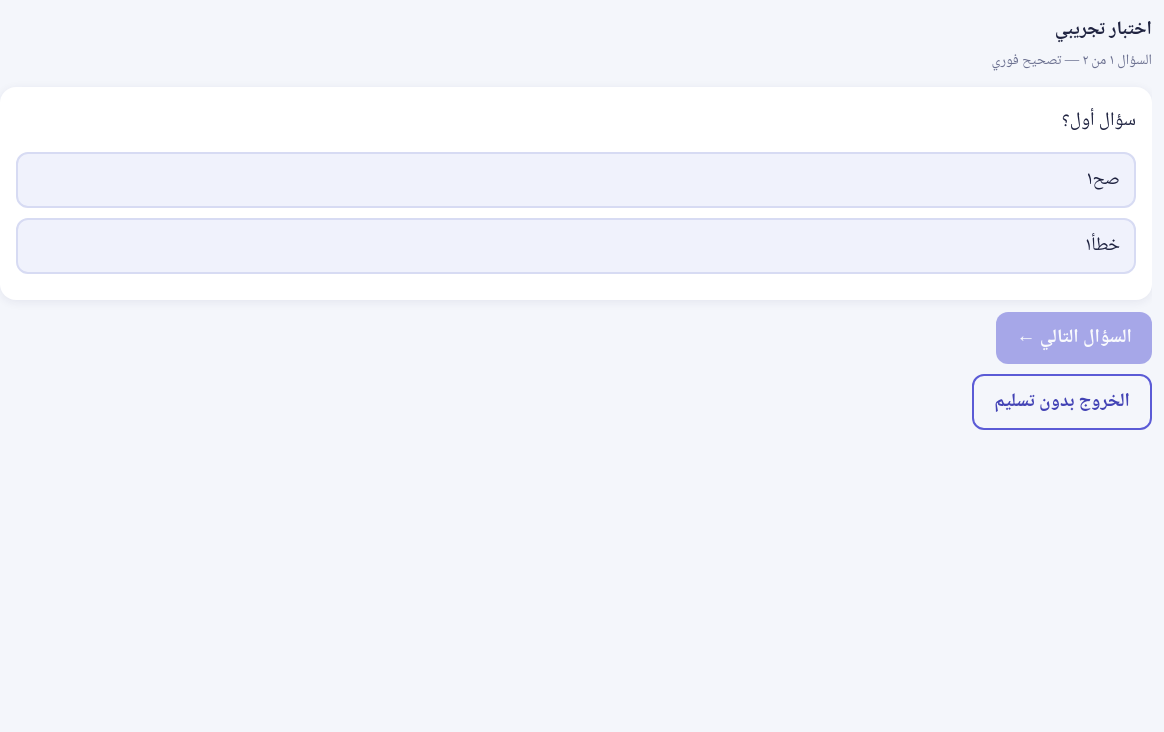
Test: مراجعة الوحدة: تصحيح فوري › يظهر التصحيح والتعليق والشرح عند الإجابة، ولا انتقال قبل الإجابة
Check: the button "السؤال التالي ←" is disabled, box [996,312,1152,364]
Click the button "خطأ١".
click(1088, 246)  # box [16,218,1136,274]
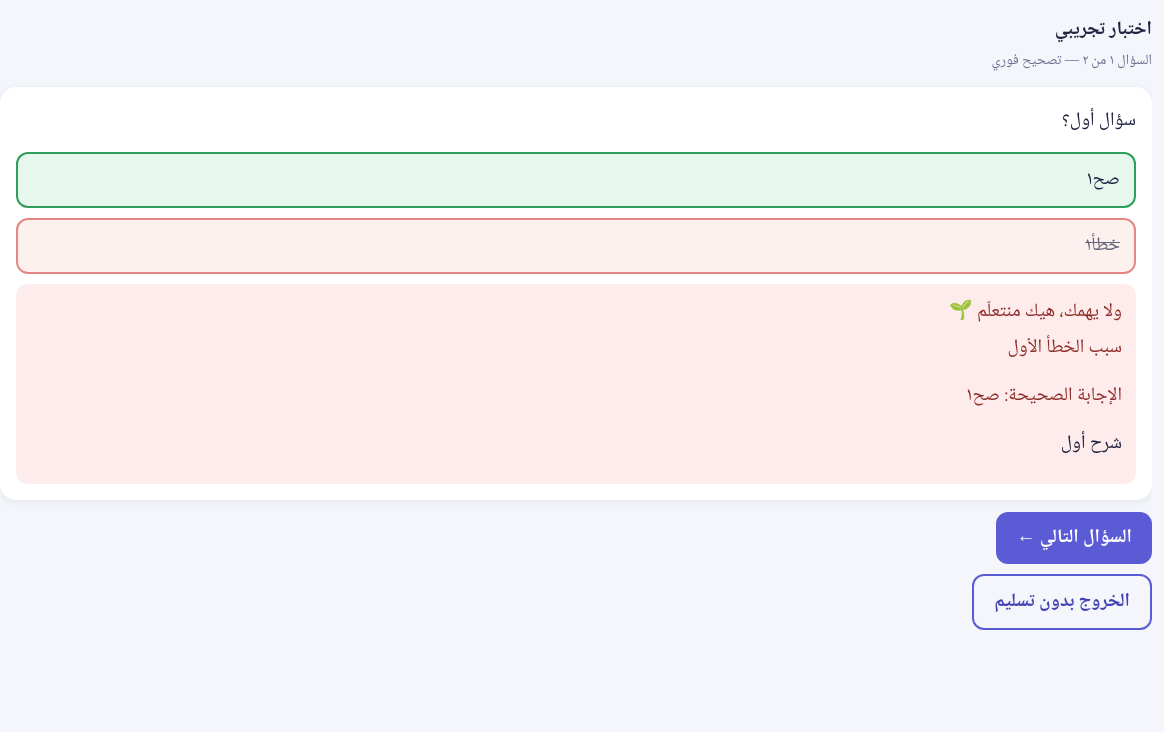
Check: the text "سبب الخطأ الأول" is shown, box [1008,332,1122,364]
Check: the text "الإجابة الصحيحة: صح١" is shown, box [966,380,1122,412]
Check: the text "شرح أول" is shown, box [1061,428,1122,460]
